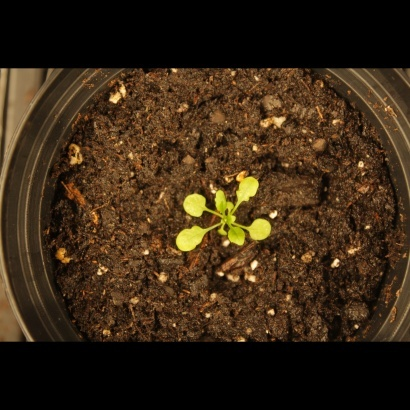leaf: (171, 221, 214, 257), (232, 173, 262, 204), (180, 192, 210, 219), (248, 216, 276, 244), (211, 187, 234, 214), (228, 227, 251, 250)
